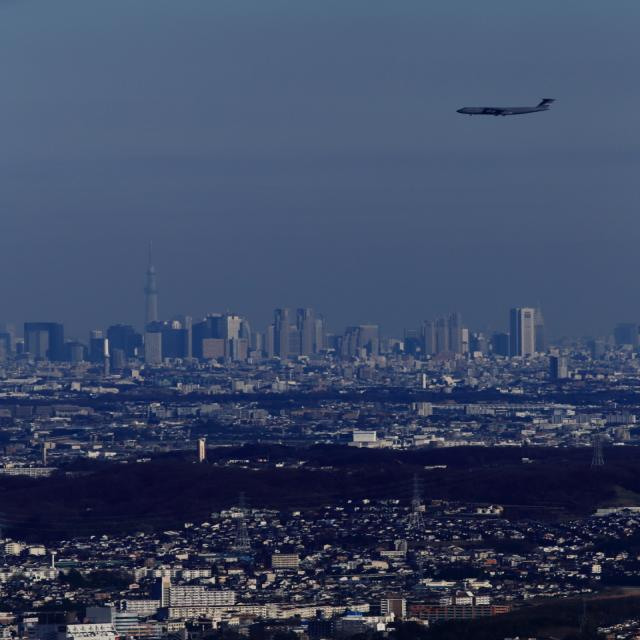MIL_Plane: (456, 100, 558, 114)
